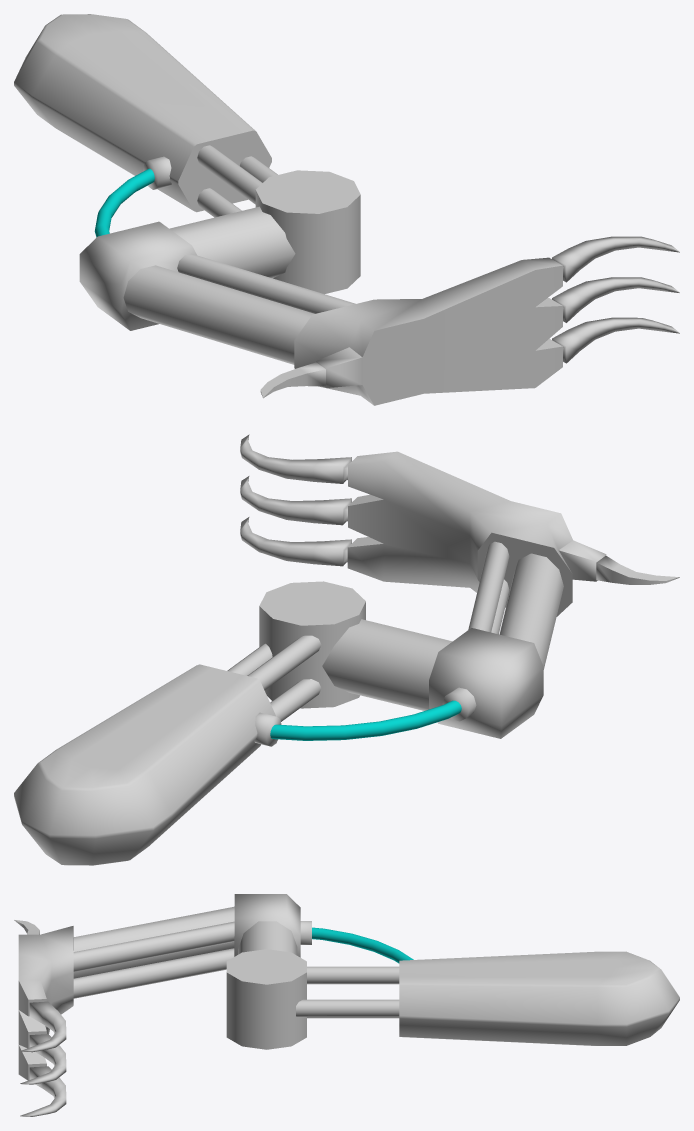
File: Melee_Leg.fbx
3 views of the same model, one above another, from view 1: azimuth 30°, elevation 25°; view 2: azimuth 150°, elevation 25°; view 3: azimuth 270°, elevation 25° (orthographic). The views are drawn at different scales.
Parts seen in each view (by area): view 1: mesh_melee_robot_Leg; view 2: mesh_melee_robot_Leg; view 3: mesh_melee_robot_Leg.
Boxes of the visible parts, x1,y1,x2,y2 form: mesh_melee_robot_Leg: (14, 14, 679, 405); mesh_melee_robot_Leg: (14, 434, 679, 865); mesh_melee_robot_Leg: (14, 894, 679, 1116).
Bounding box in the file's own units: 72.12 × 19.18 × 123.
